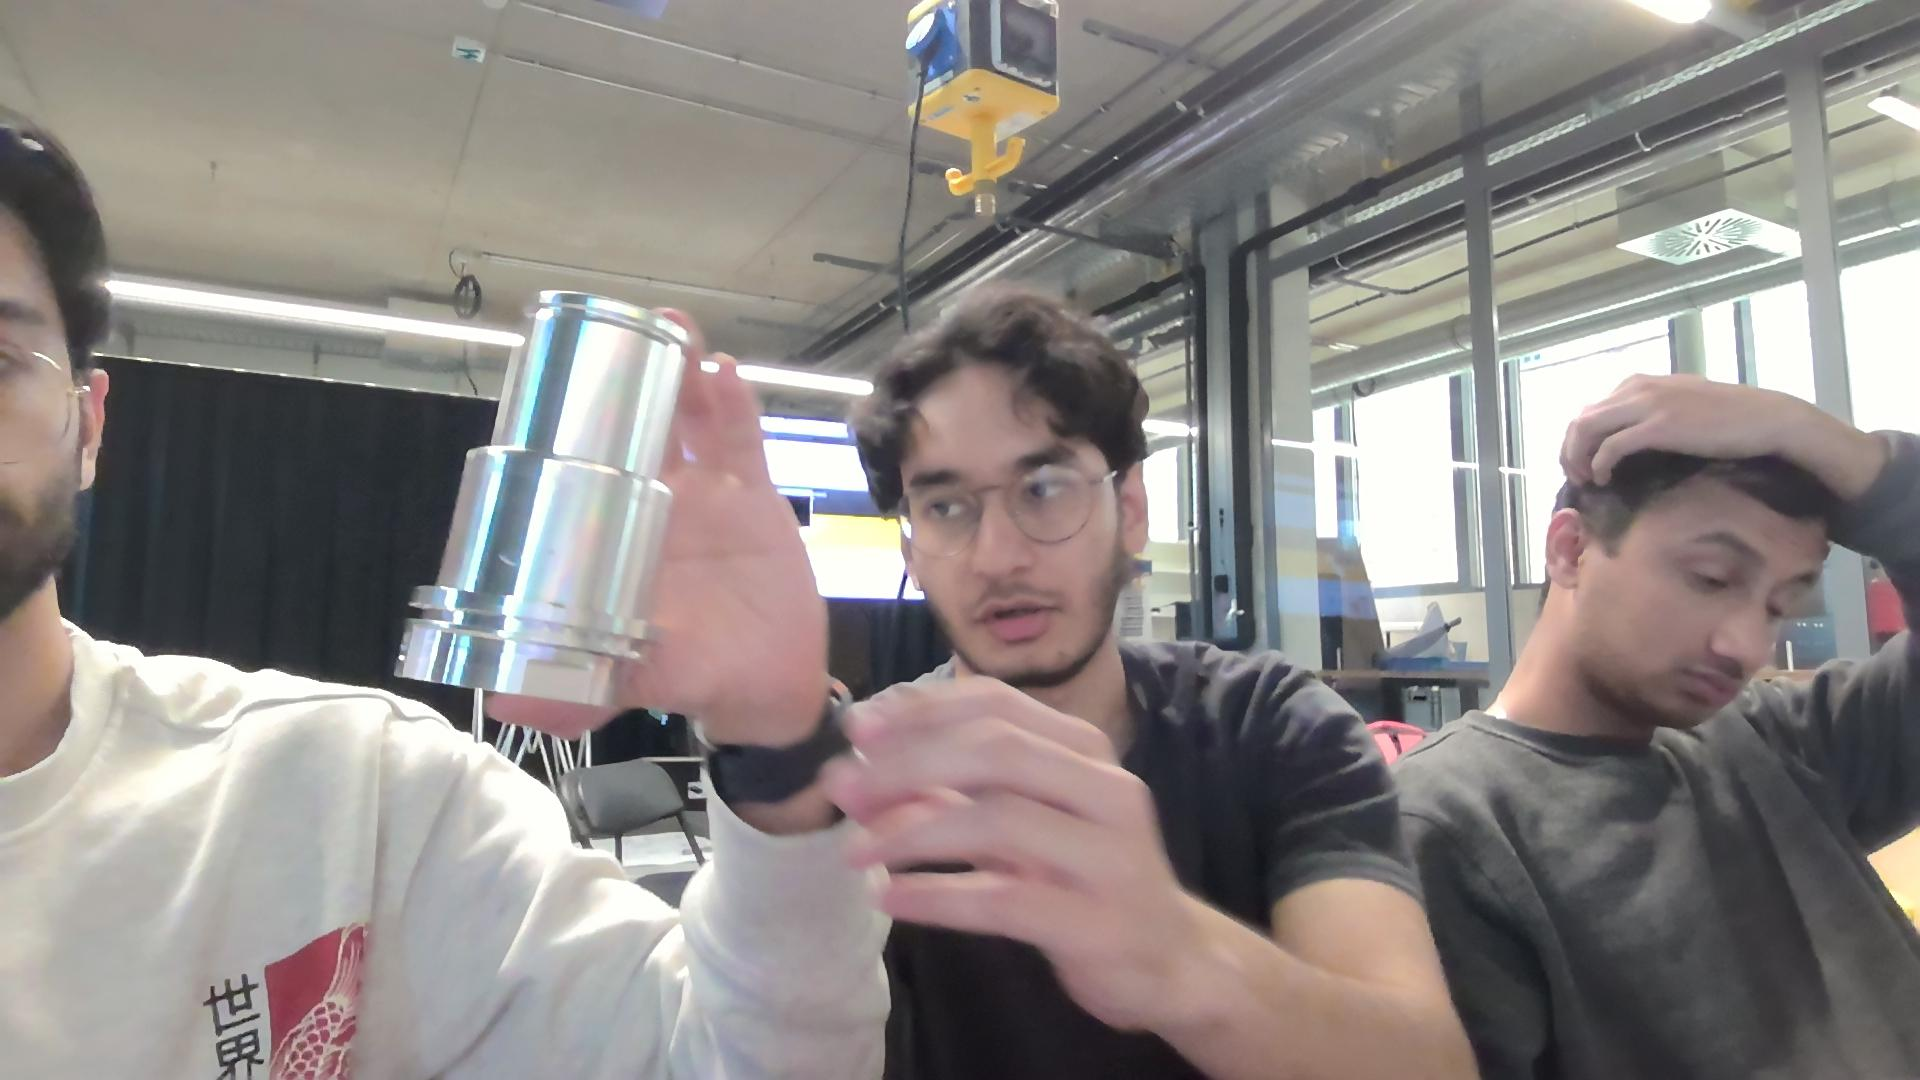damage: (491, 543, 527, 574)
objects: (385, 291, 674, 713)
